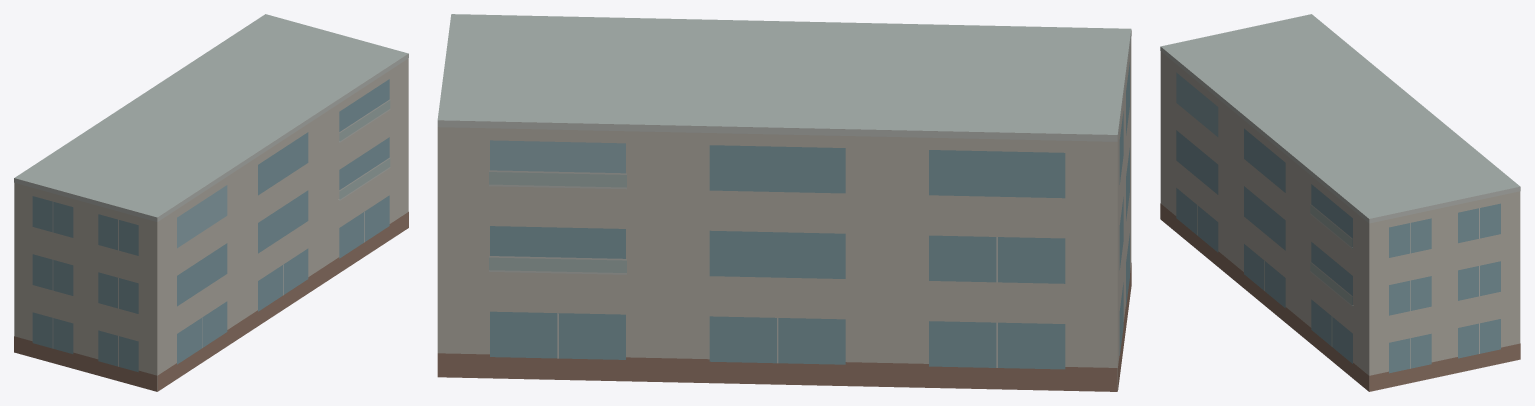
Rendered from survey-upis-32858871.glb.
The picture shows the model from 3 angles, left to right: view 1: azimuth 30°, elevation 25°; view 2: azimuth 150°, elevation 25°; view 3: azimuth 270°, elevation 25°; orthographic projection. The views are drawn at different scales.
Visible parts, largest first — view 1: survey-upis-32858871.tmp; view 2: survey-upis-32858871.tmp; view 3: survey-upis-32858871.tmp.
Boxes of the visible parts, x1=… form: survey-upis-32858871.tmp: x1=14, y1=14, x2=408, y2=391; survey-upis-32858871.tmp: x1=437, y1=14, x2=1131, y2=391; survey-upis-32858871.tmp: x1=1160, y1=14, x2=1520, y2=391.
Bounding box in the file's own units: 23.39 × 9.2 × 17.36.
